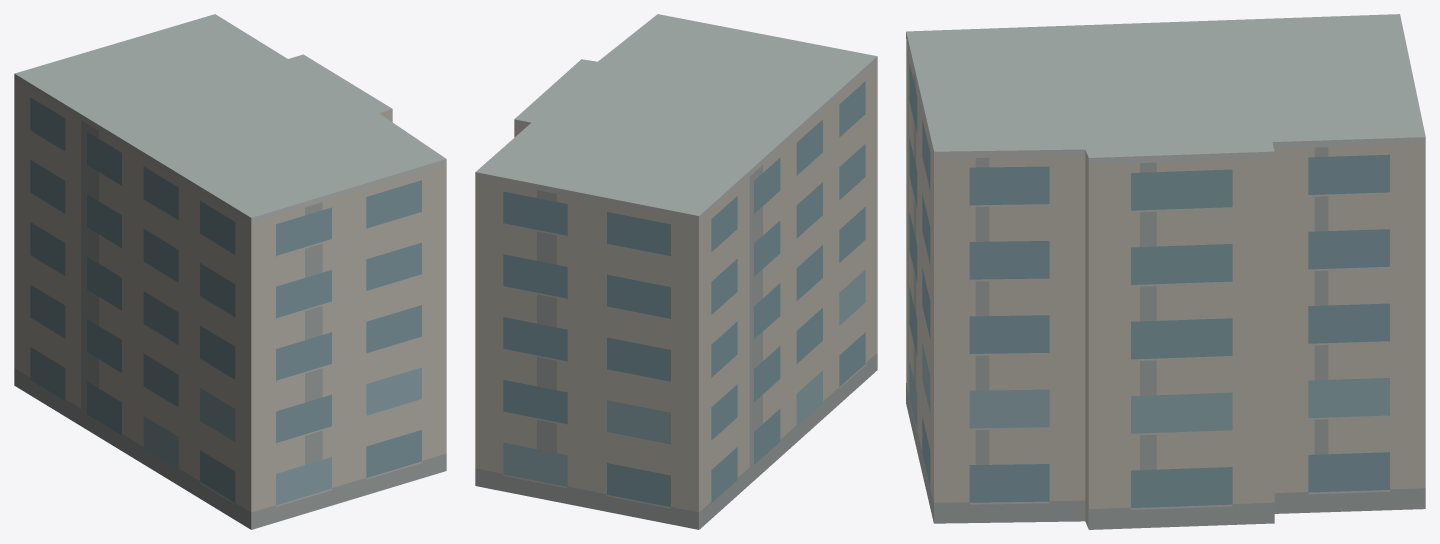
Rendered from survey-upis-32843780.glb.
3 views of the same model, side by side, from view 1: azimuth 30°, elevation 25°; view 2: azimuth 150°, elevation 25°; view 3: azimuth 270°, elevation 25° (orthographic). The views are drawn at different scales.
Parts seen in each view (by area): view 1: survey-upis-32843780.tmp; view 2: survey-upis-32843780.tmp; view 3: survey-upis-32843780.tmp.
Part boxes in pixels (bbox=[...]): survey-upis-32843780.tmp: bbox=[14, 14, 446, 529]; survey-upis-32843780.tmp: bbox=[475, 14, 877, 529]; survey-upis-32843780.tmp: bbox=[906, 14, 1425, 529].
Bounding box in the file's own units: 10.97 × 13.2 × 16.73.
